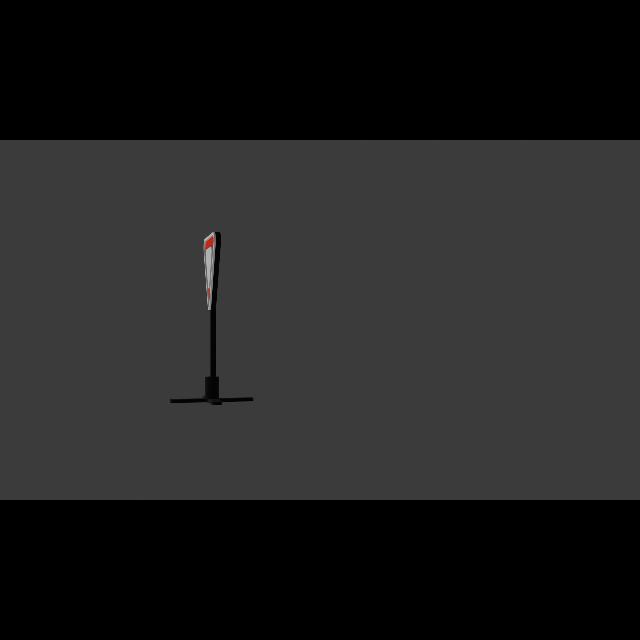sign_yield: (203, 234, 220, 313)
